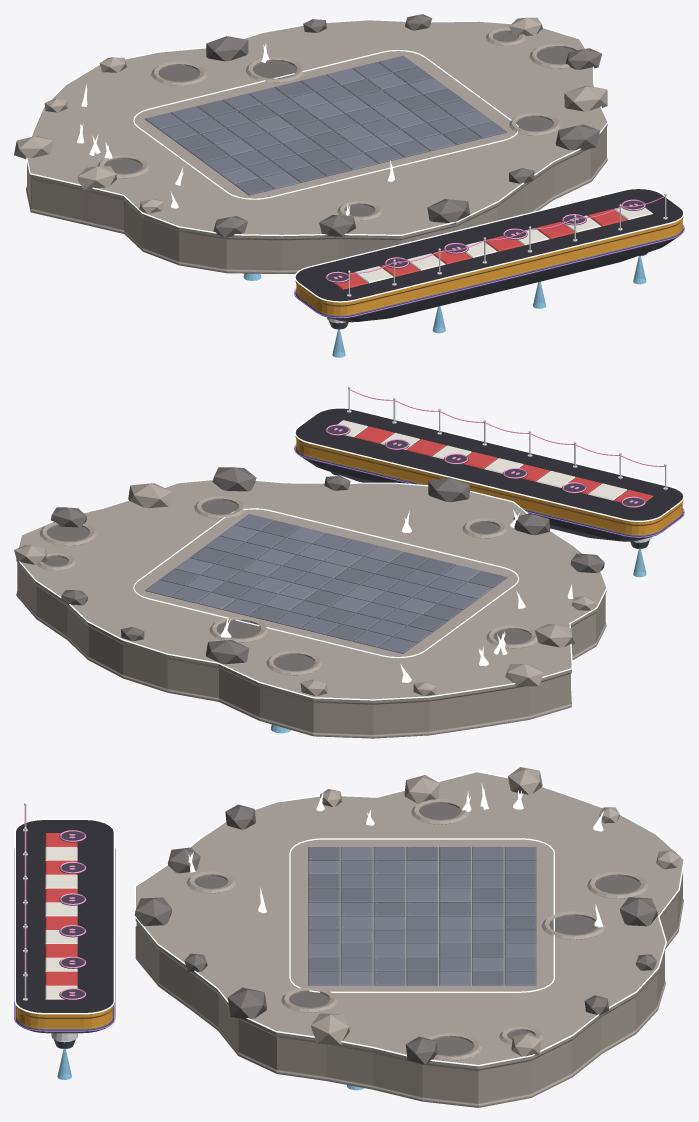
The model's file is Level_AsteroidDiner.fbx.
The picture shows the model from 3 angles, top to bottom: view 1: azimuth 30°, elevation 25°; view 2: azimuth 150°, elevation 25°; view 3: azimuth 270°, elevation 25°; orthographic projection. The views are drawn at different scales.
Parts seen in each view (by area): view 1: Asteroid_Slab, Asteroid_PlazaTiles, Customers_AsteroidDiner_Slab, Asteroid_SurfaceDetail, Customers_AsteroidDiner_CheckerFloor, Asteroid_NeonRim, Customers_AsteroidDiner_QueueSpotsPosts, Customers_AsteroidDiner_NeonRim, Asteroid_PlazaNeon, Customers_AsteroidDiner_Engines, Customers_AsteroidDiner_NeonRimLow; view 2: Asteroid_Slab, Asteroid_PlazaTiles, Customers_AsteroidDiner_Slab, Asteroid_SurfaceDetail, Customers_AsteroidDiner_CheckerFloor, Asteroid_NeonRim, Customers_AsteroidDiner_QueueSpotsPosts, Customers_AsteroidDiner_NeonRim, Asteroid_PlazaNeon; view 3: Asteroid_Slab, Asteroid_PlazaTiles, Asteroid_SurfaceDetail, Customers_AsteroidDiner_Slab, Customers_AsteroidDiner_CheckerFloor, Customers_AsteroidDiner_QueueSpotsPosts, Asteroid_NeonRim, Asteroid_PlazaNeon, Customers_AsteroidDiner_NeonRim, Customers_AsteroidDiner_Engines, Customers_AsteroidDiner_NeonRimLow.
Part boxes in pixels (left/top/right/bottom): Asteroid_Slab: left=26, top=20, right=607, bottom=273; Asteroid_PlazaTiles: left=145, top=55, right=507, bottom=195; Customers_AsteroidDiner_Slab: left=295, top=189, right=683, bottom=322; Asteroid_SurfaceDetail: left=14, top=14, right=607, bottom=237; Customers_AsteroidDiner_CheckerFloor: left=333, top=207, right=652, bottom=289; Asteroid_NeonRim: left=26, top=19, right=608, bottom=236; Customers_AsteroidDiner_QueueSpotsPosts: left=325, top=193, right=667, bottom=296; Customers_AsteroidDiner_NeonRim: left=294, top=188, right=684, bottom=302; Asteroid_PlazaNeon: left=133, top=50, right=518, bottom=199; Customers_AsteroidDiner_Engines: left=327, top=252, right=647, bottom=357; Customers_AsteroidDiner_NeonRimLow: left=294, top=225, right=684, bottom=318; Asteroid_Slab: left=16, top=480, right=606, bottom=738; Asteroid_PlazaTiles: left=145, top=514, right=507, bottom=653; Customers_AsteroidDiner_Slab: left=295, top=408, right=683, bottom=541; Asteroid_SurfaceDetail: left=14, top=467, right=604, bottom=695; Customers_AsteroidDiner_CheckerFloor: left=337, top=420, right=653, bottom=502; Asteroid_NeonRim: left=15, top=479, right=607, bottom=700; Customers_AsteroidDiner_QueueSpotsPosts: left=325, top=386, right=667, bottom=507; Customers_AsteroidDiner_NeonRim: left=294, top=407, right=684, bottom=521; Asteroid_PlazaNeon: left=133, top=508, right=519, bottom=658; Asteroid_Slab: left=135, top=772, right=683, bottom=1107; Asteroid_PlazaTiles: left=308, top=847, right=536, bottom=985; Asteroid_SurfaceDetail: left=134, top=767, right=680, bottom=1064; Customers_AsteroidDiner_Slab: left=15, top=820, right=113, bottom=1033; Customers_AsteroidDiner_CheckerFloor: left=45, top=833, right=77, bottom=999; Customers_AsteroidDiner_QueueSpotsPosts: left=23, top=803, right=86, bottom=1000; Asteroid_NeonRim: left=134, top=771, right=684, bottom=1066; Asteroid_PlazaNeon: left=289, top=838, right=554, bottom=992; Customers_AsteroidDiner_NeonRim: left=14, top=818, right=114, bottom=1014; Customers_AsteroidDiner_Engines: left=51, top=1033, right=78, bottom=1079; Customers_AsteroidDiner_NeonRimLow: left=14, top=848, right=115, bottom=1031.
Size of the model in its own units: 21.26 by 5.1 by 20.46.
